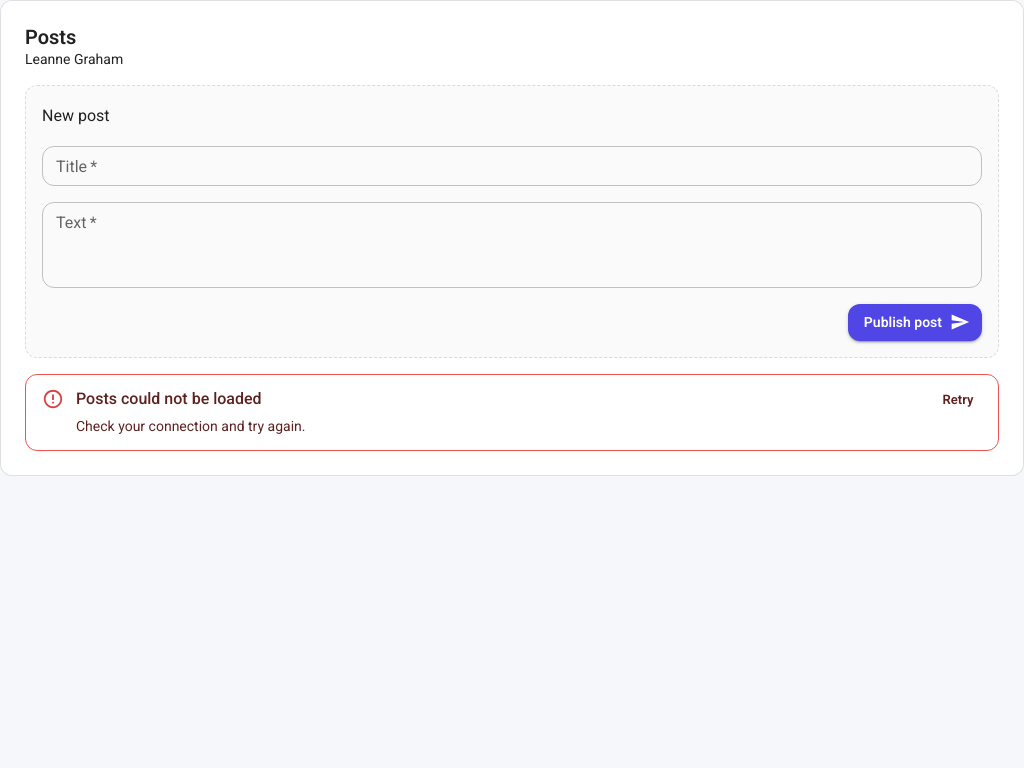
Test: PostsPanel › shows the error and loads the posts again on retry
The width and height of the screenshot is (1024, 768).
Expected: the message "Posts could not be loaded Check your connection and try again. Retry" is shown, [25, 374, 999, 451]
Click the button "Retry" at {"x": 958, "y": 400}, box [926, 384, 990, 415]
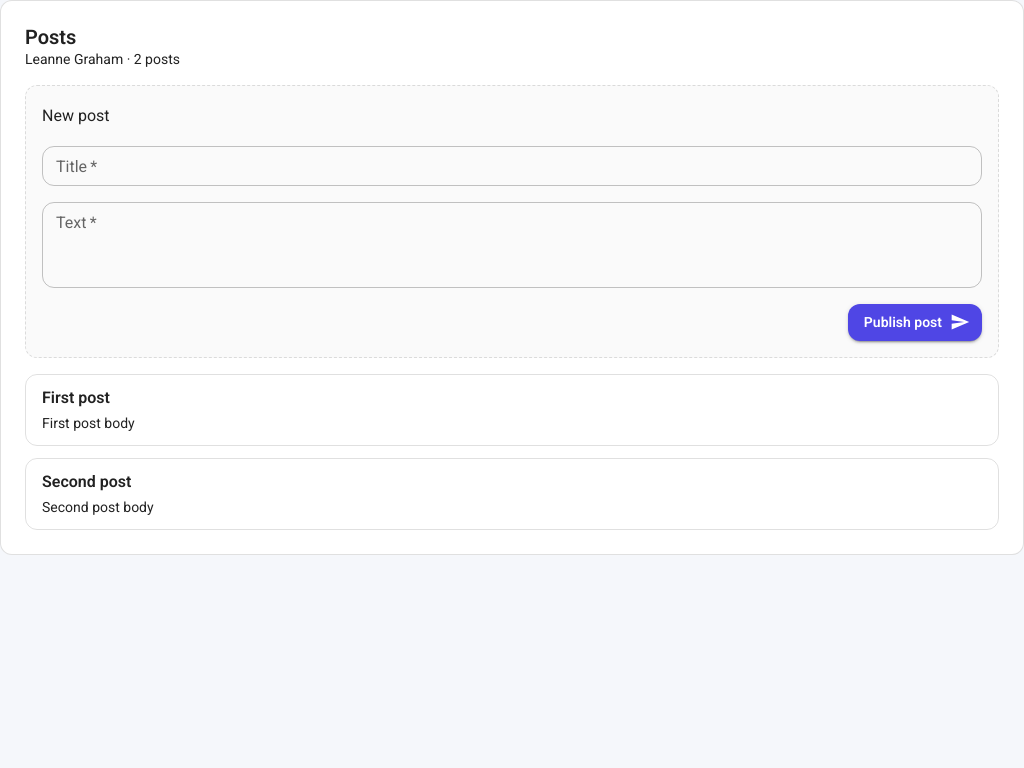
Now the number of elements with test id "post-card" is 2, box [25, 374, 999, 446]; [25, 458, 999, 530]
